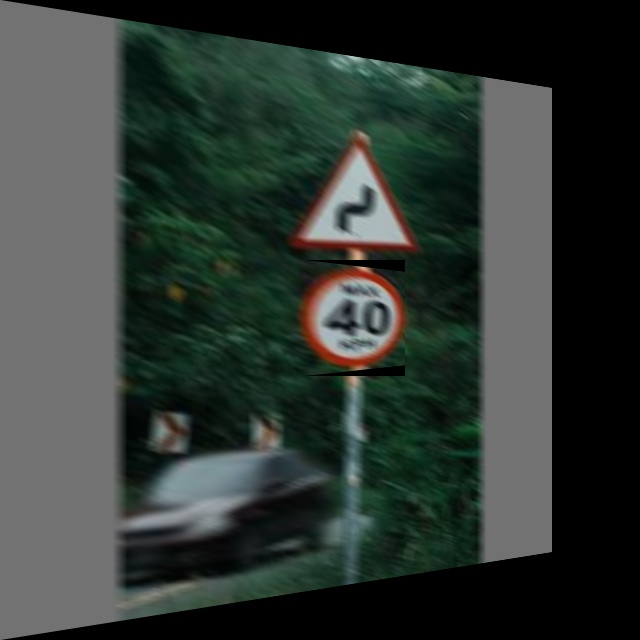Speed_Limit_40: (304, 260, 405, 376)
